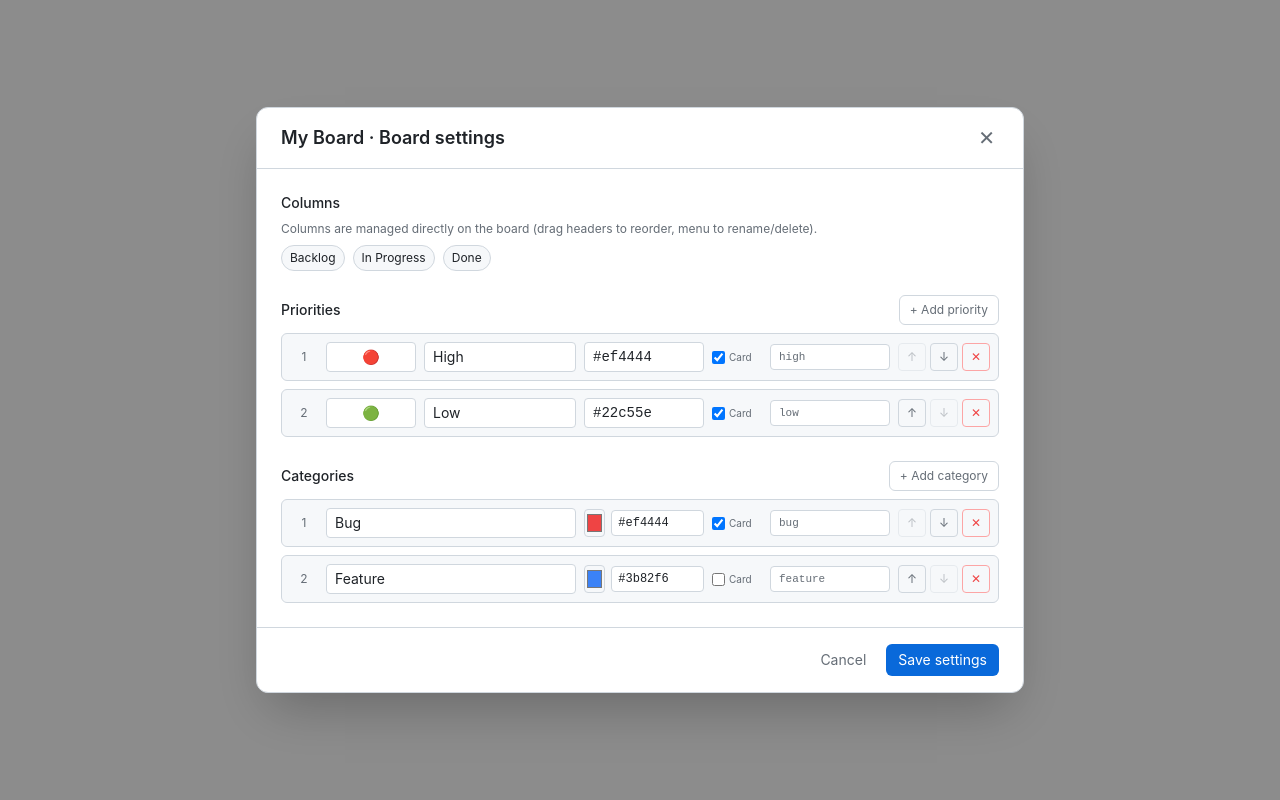
Test: categories section › reorder categories with move buttons
The width and height of the screenshot is (1280, 800).
Click the button titled "Move down" next to "bug" at (944, 523), box [930,509,958,537]
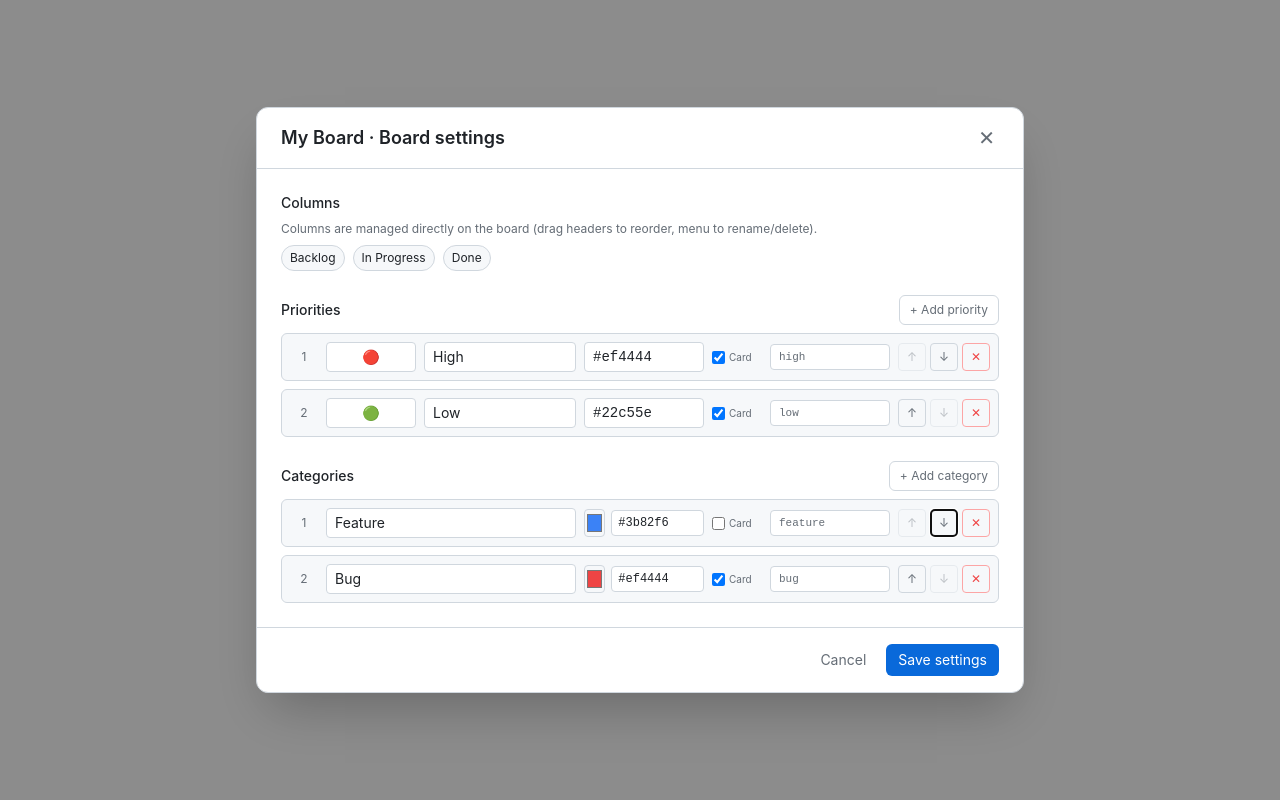
Expected: the 5th field with placeholder "Category label" holds "Feature", [326,508,576,538]
Expected: the 7th field with placeholder "Category label" holds "Bug", [326,564,576,594]
